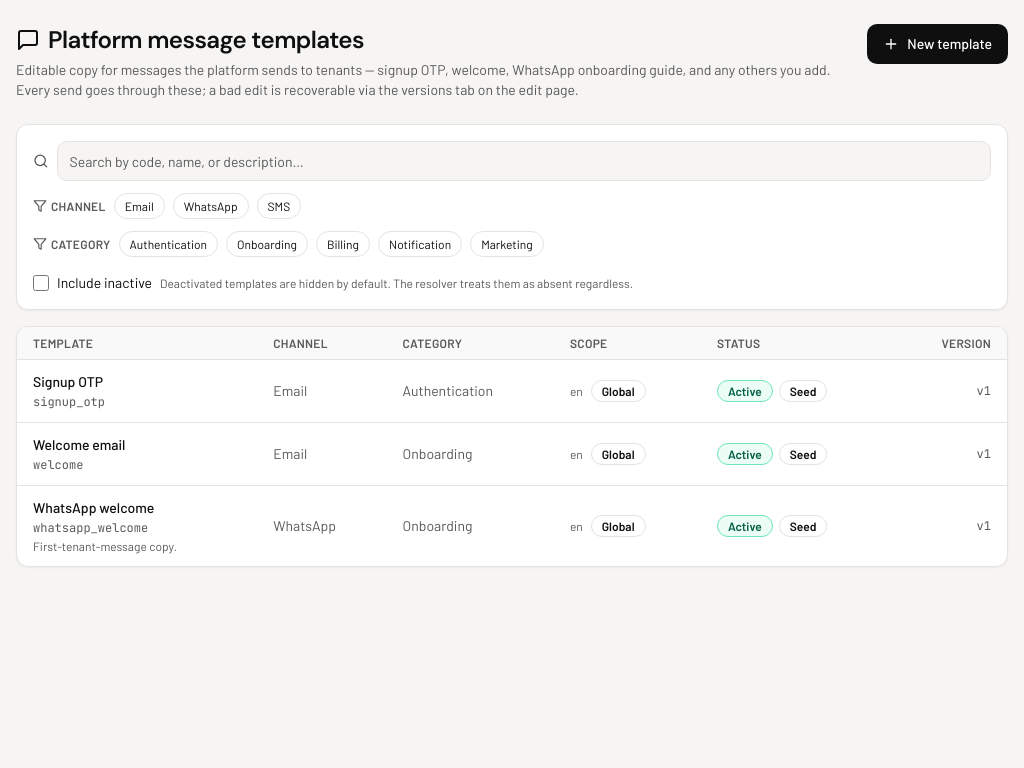
it: filtering › channel chip narrows the list; multiple channels are OR
Expected: the text "Signup OTP" is shown, [33, 373, 103, 390]
Click the button "Email" at (139,206), box [114, 193, 165, 219]
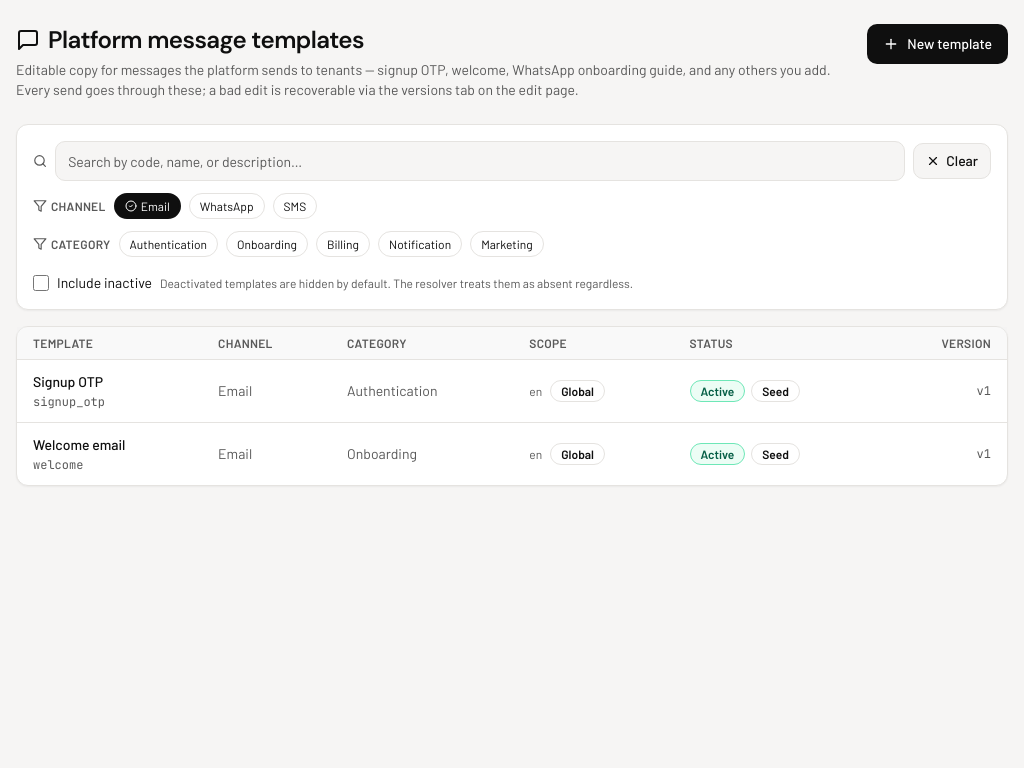
Expected: the text "Signup OTP" is shown, [33, 373, 103, 390]
Result: the link "WhatsApp welcome" is gone
Note: Adding WhatsApp broadens the OR set.
Click the button "WhatsApp" at (227,206), box [189, 193, 265, 219]
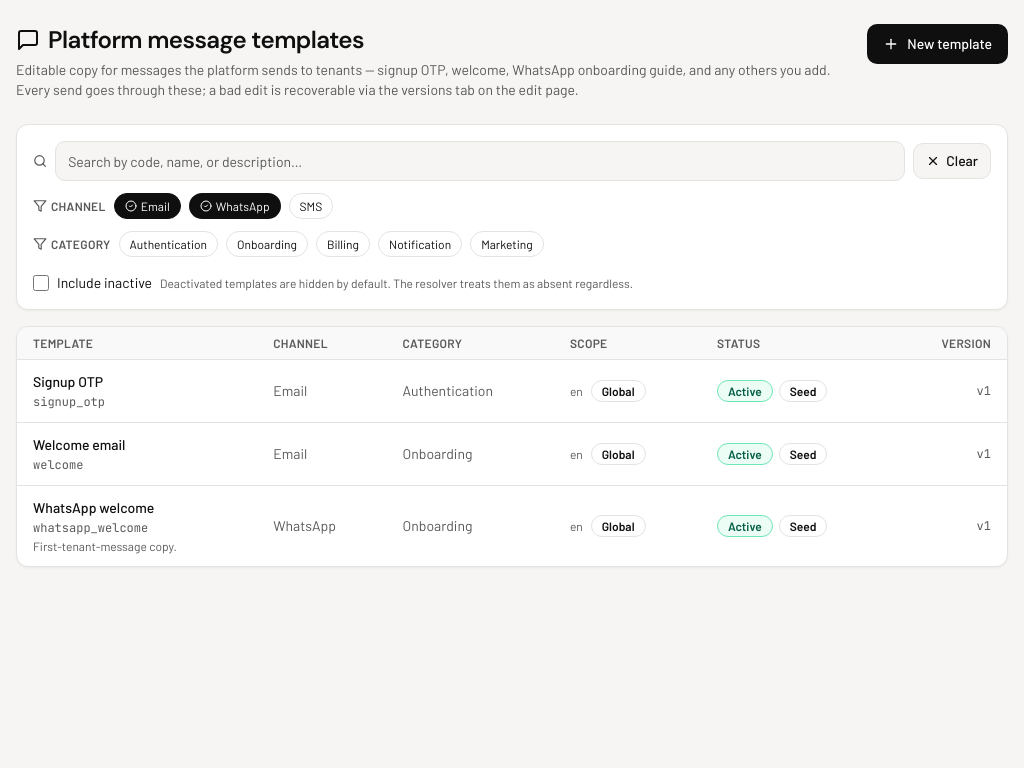
Result: the text "WhatsApp welcome" is shown at [33, 499, 154, 516]
